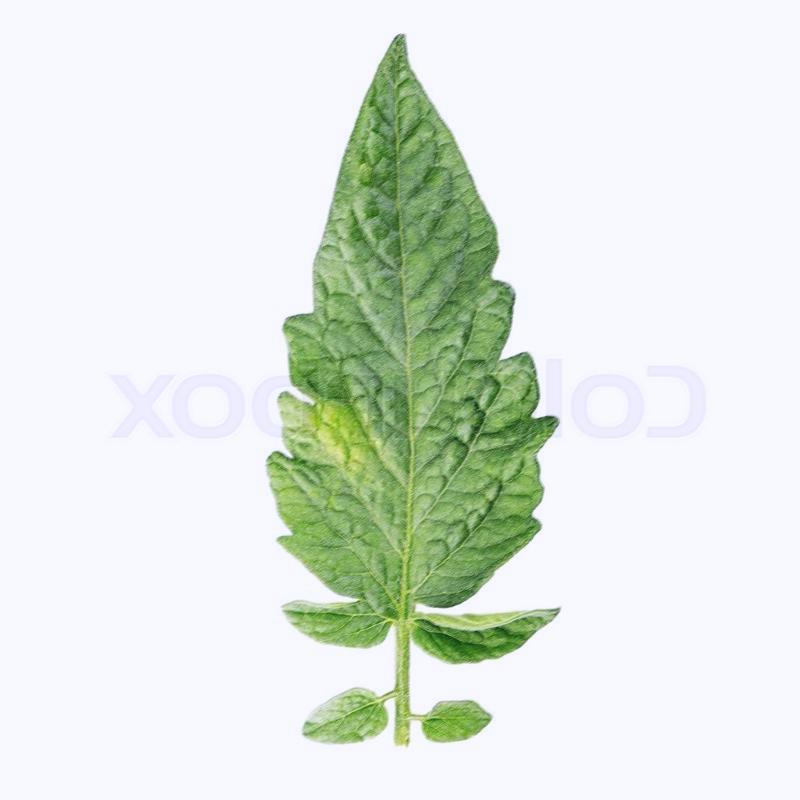Tomato leaf: (276, 18, 551, 762)
